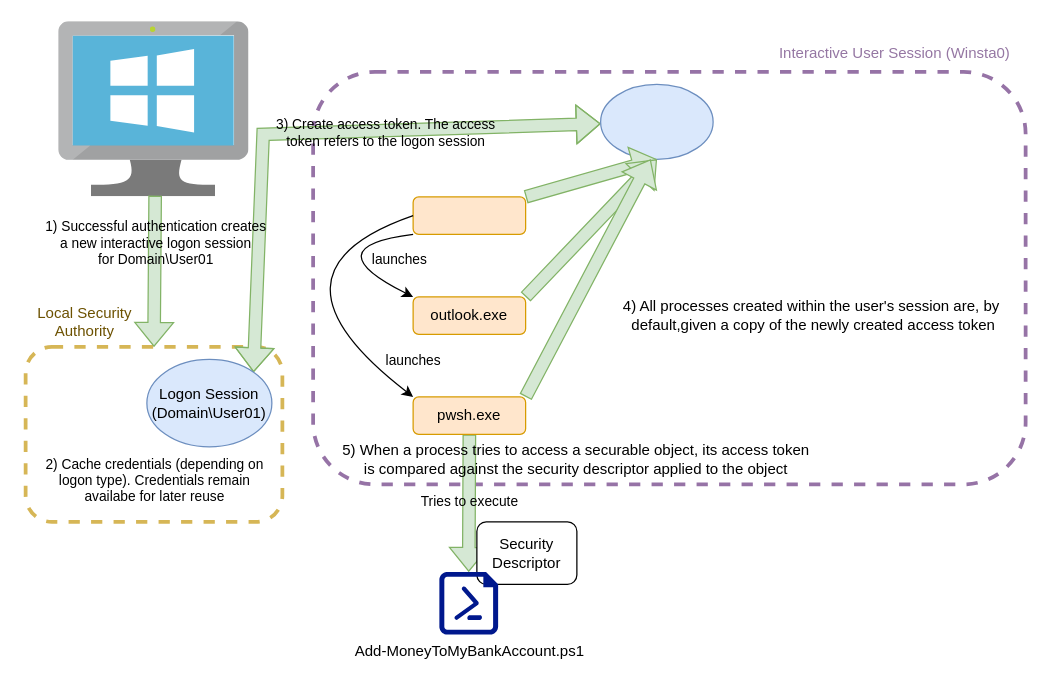
This 1049x681 diagram has some shape labels left out. The shapes that lost their labels are listed below. From the top down, each one's centre as x and y in pixels, then its label:
At (x=656, y=121): "Access Token".
At (x=469, y=215): "explorer.exe".
